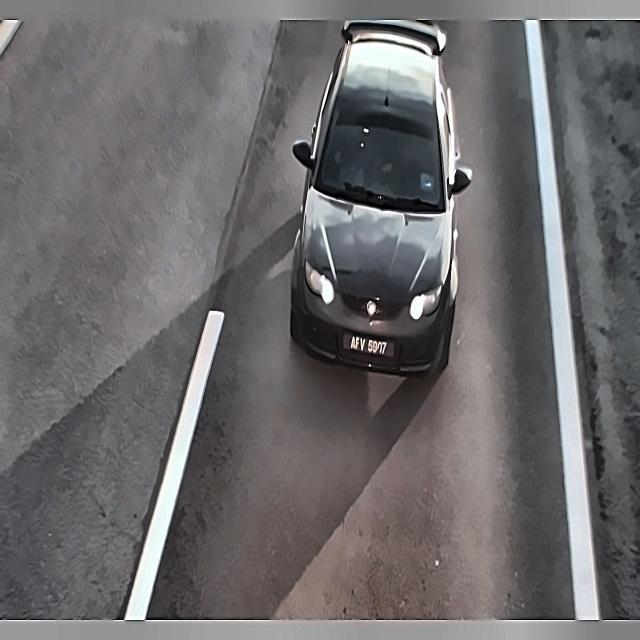car: (339, 327, 402, 363)
